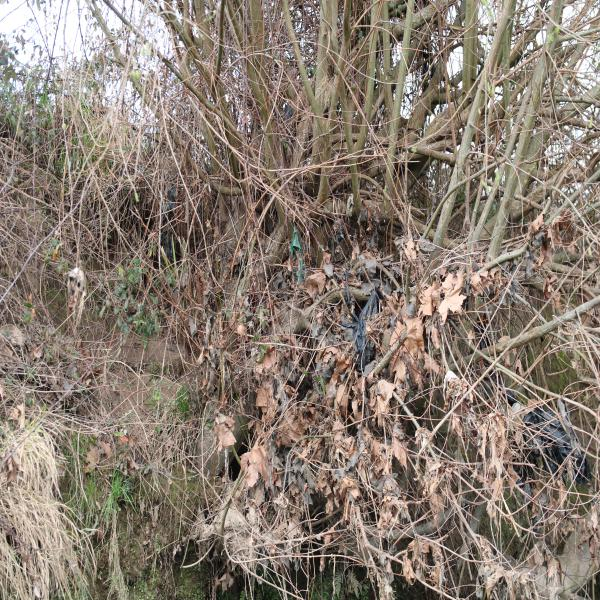fragments: (512, 399, 593, 487), (353, 288, 379, 373), (287, 221, 303, 280)
